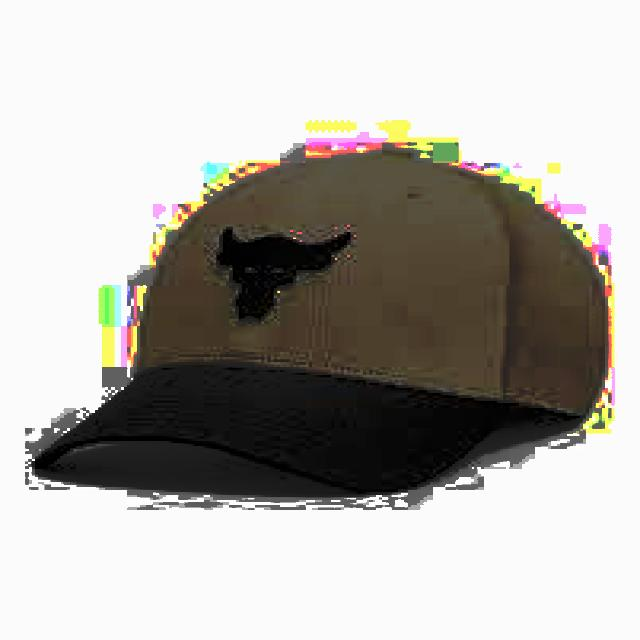TOPI: (25, 138, 618, 497)
